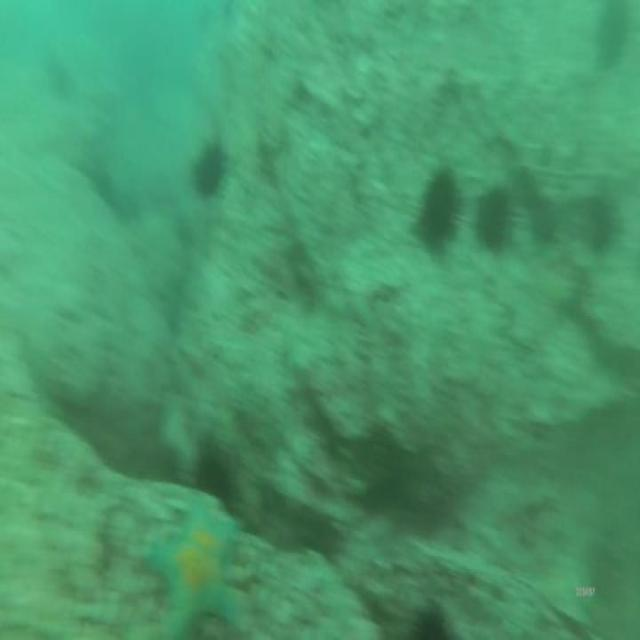echinus: (410, 158, 465, 266), (472, 182, 518, 258), (590, 0, 636, 71), (574, 188, 622, 256), (190, 136, 231, 201), (403, 596, 458, 640), (42, 51, 74, 102)
starfish: (145, 493, 246, 640)
